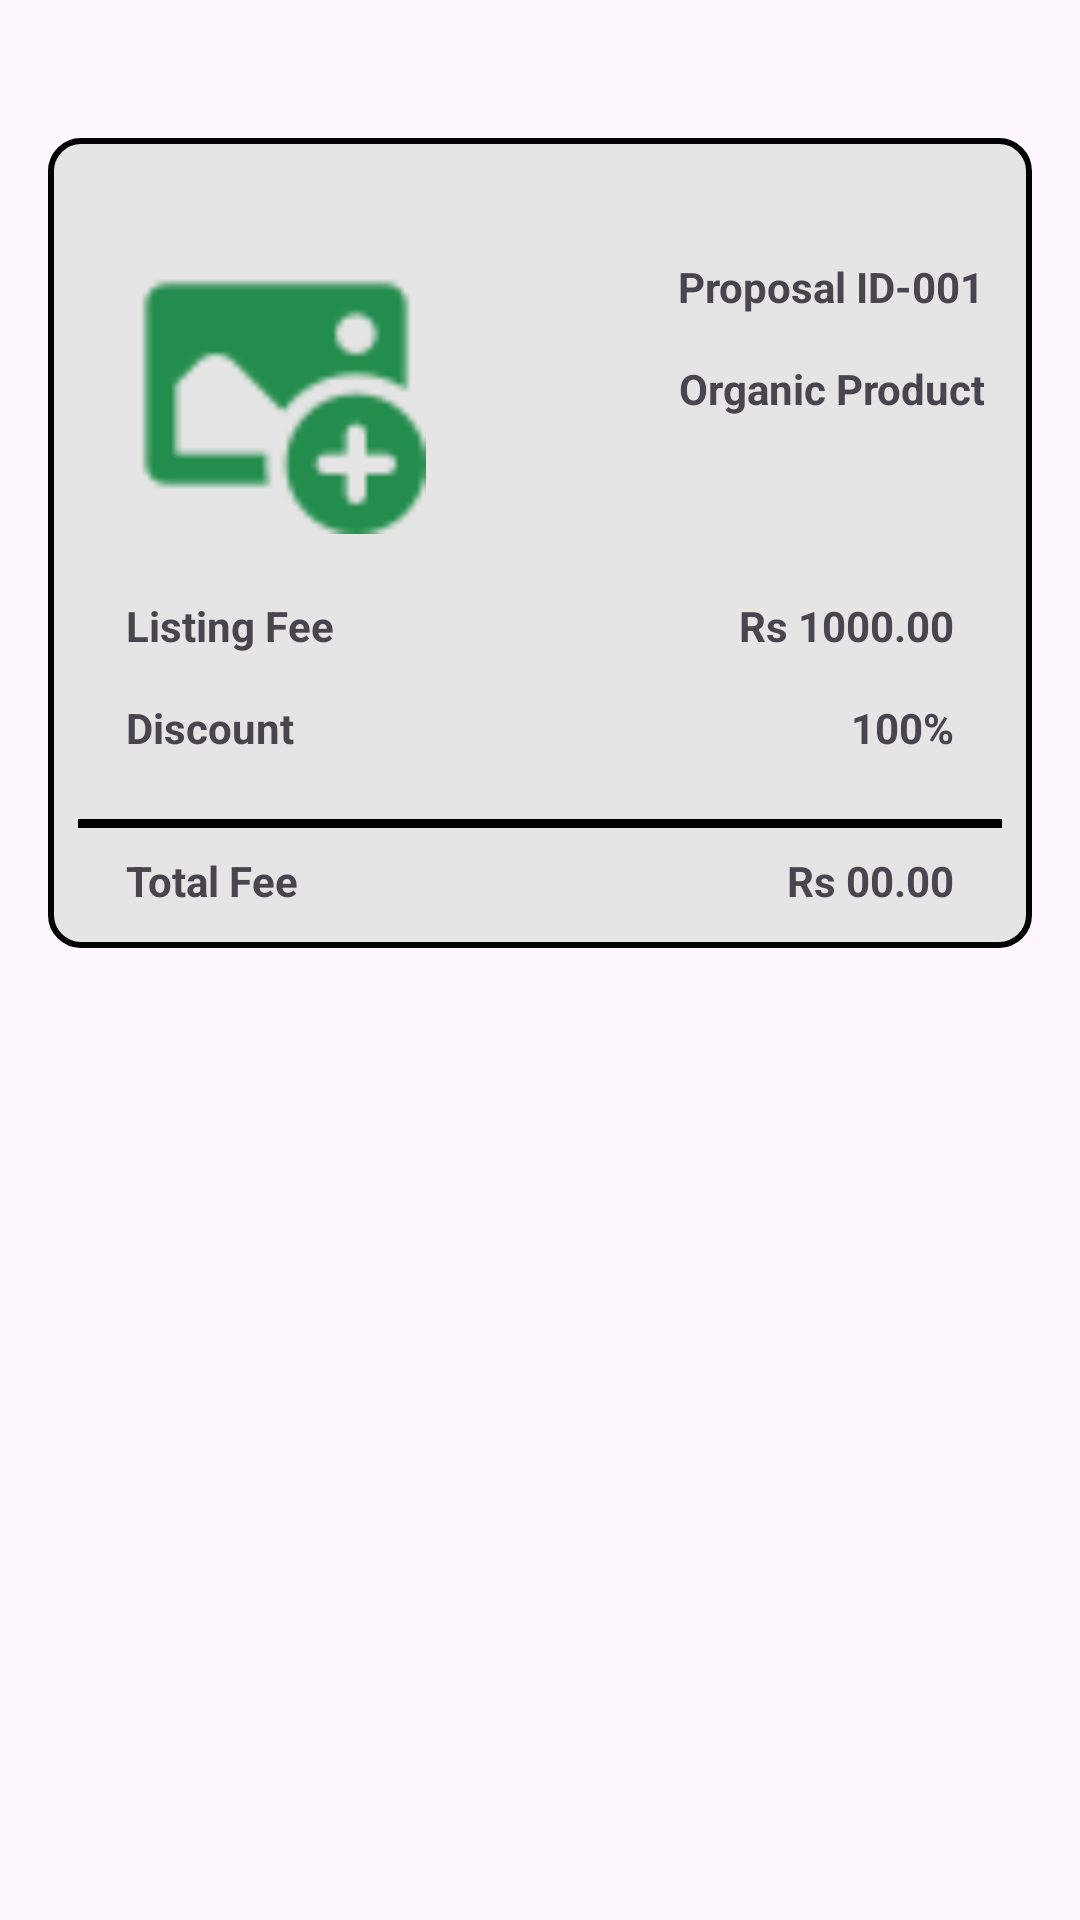

Icon bounding boxes for this 1080px x 1920px phone screenshot, format (x1, y1, x2, y2):
imageicon: (142, 280, 426, 534)
